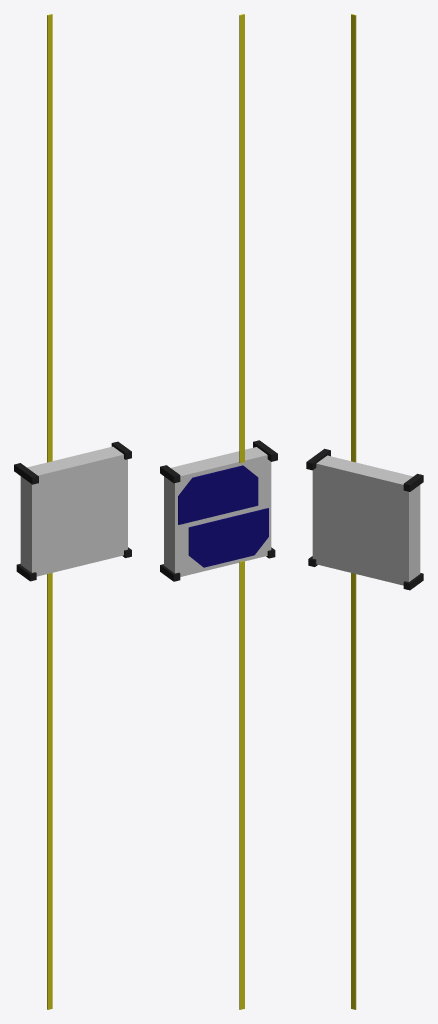
The model's file is spacebee1gen.obj.
3 views of the same model, side by side, from view 1: azimuth 30°, elevation 25°; view 2: azimuth 210°, elevation 25°; view 3: azimuth 330°, elevation 25° (orthographic).
Parts seen in each view (by area): view 1: Cube.004_Cube.045, Cube.009_Cube.046, Cube.010_Cube.047, Cube.006_Cube.048; view 2: Cube.004_Cube.045, Cube.012_Cube.049, Cube.005_Cube.050, Cube.009_Cube.046, Cube.010_Cube.047; view 3: Cube.004_Cube.045, Cube.009_Cube.046, Cube.010_Cube.047.
Part boxes in pixels (box(x1,y1,x2,y2)): Cube.004_Cube.045: box(20, 446, 127, 576); Cube.009_Cube.046: box(47, 14, 52, 462); Cube.010_Cube.047: box(47, 573, 52, 1009); Cube.006_Cube.048: box(14, 463, 38, 484); Cube.004_Cube.045: box(164, 447, 271, 576); Cube.012_Cube.049: box(178, 465, 258, 524); Cube.005_Cube.050: box(188, 508, 268, 567); Cube.009_Cube.046: box(239, 14, 244, 463); Cube.010_Cube.047: box(239, 561, 244, 1009); Cube.004_Cube.045: box(312, 455, 420, 585); Cube.009_Cube.046: box(351, 14, 356, 462); Cube.010_Cube.047: box(351, 573, 356, 1009).
Size of the model in its own units: 2.11 by 19.74 by 0.6597.
